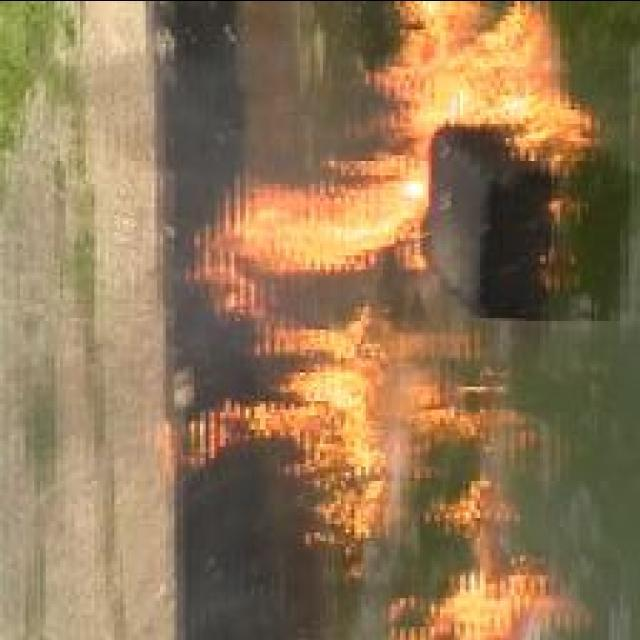Fire: (190, 0, 595, 275), (158, 267, 532, 553), (387, 566, 590, 640)
